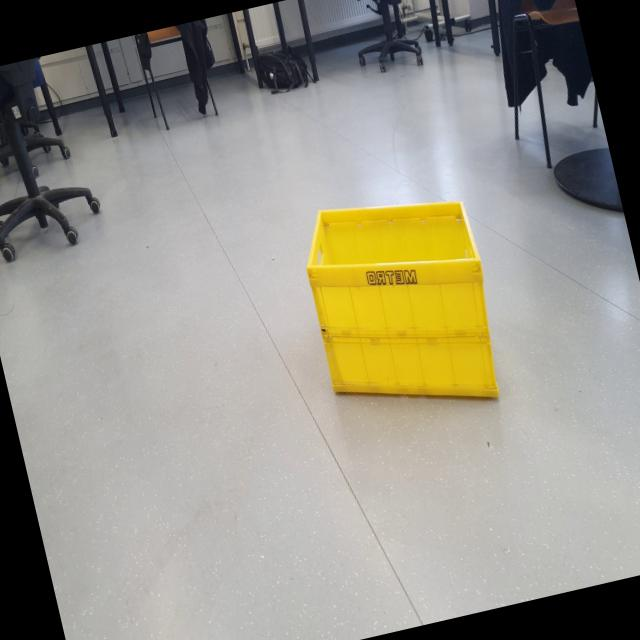box: (282, 166, 520, 447)
